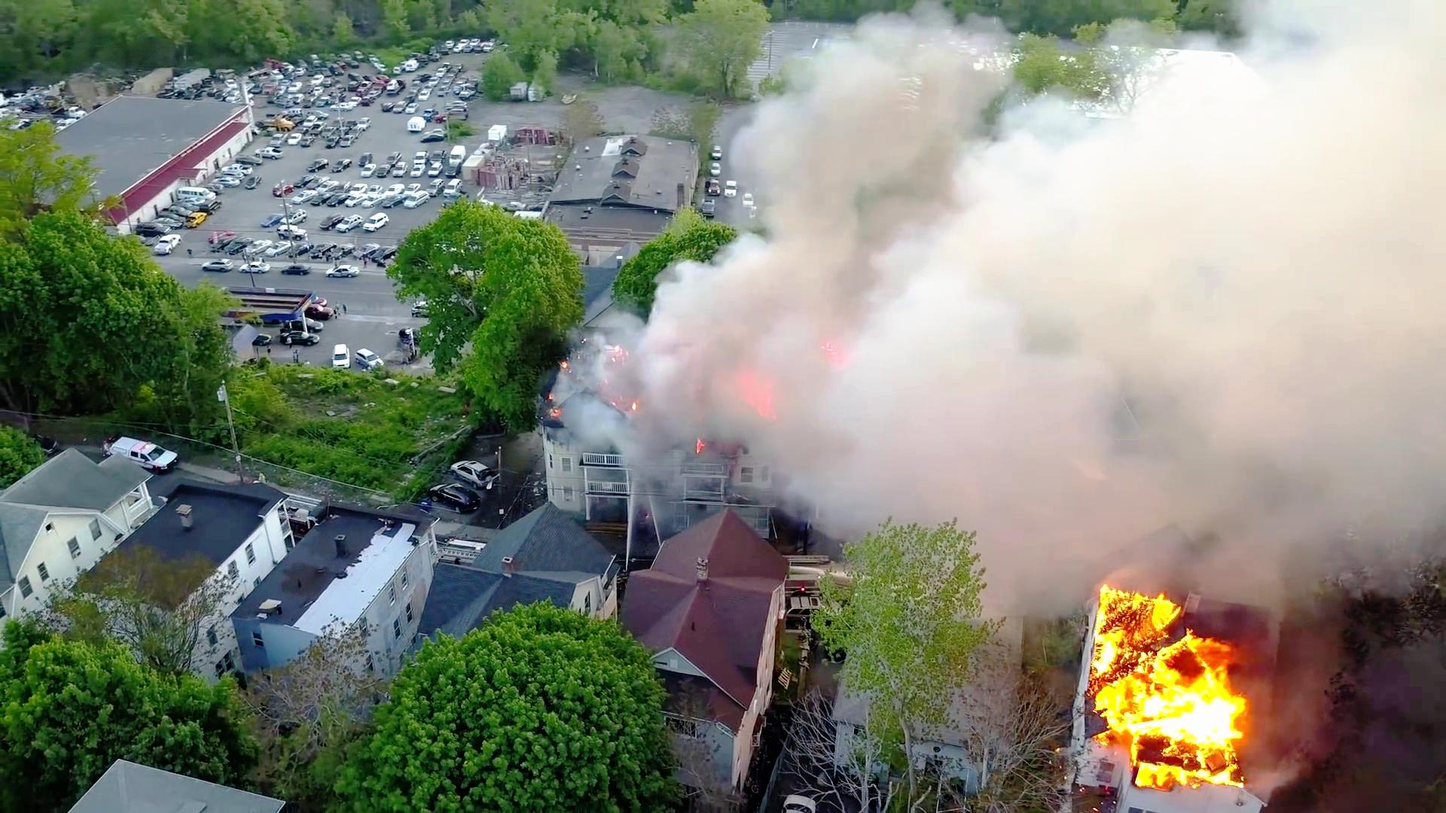fire: (1071, 588, 1269, 760)
smoke: (795, 253, 1081, 446)
